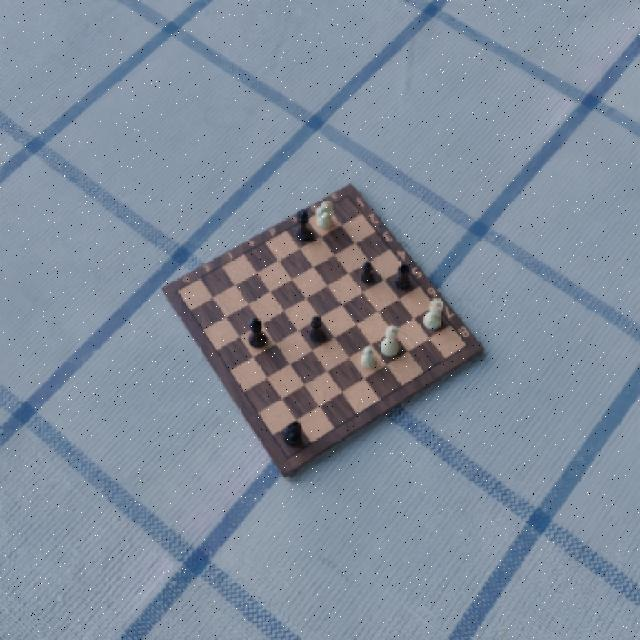black-bishop: (309, 315, 325, 345)
black-king: (248, 315, 268, 349)
black-knight: (283, 422, 304, 450)
black-pawn: (359, 260, 376, 284)
black-rook: (394, 263, 413, 290)
white-king: (379, 323, 399, 359)
white-knight: (315, 196, 333, 230)
white-pawn: (359, 345, 377, 371)
white-queen: (422, 297, 443, 330), (294, 206, 312, 241)
